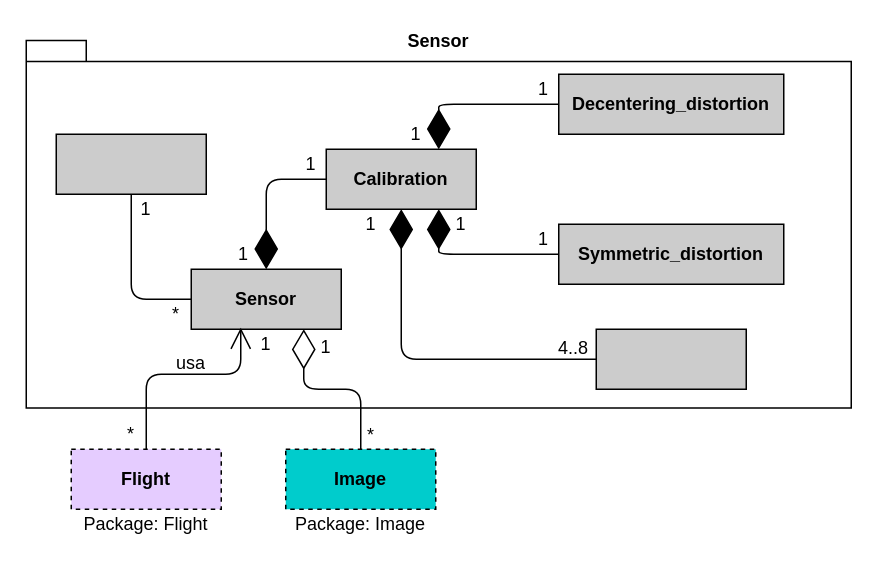
The diagram is 878 pixels wide and 566 high, and some of its shapes have lost their labels. Each missing label, with the centre of its shape:
"Fiducials" belongs at [670,358].
"Specification" belongs at [130,163].
